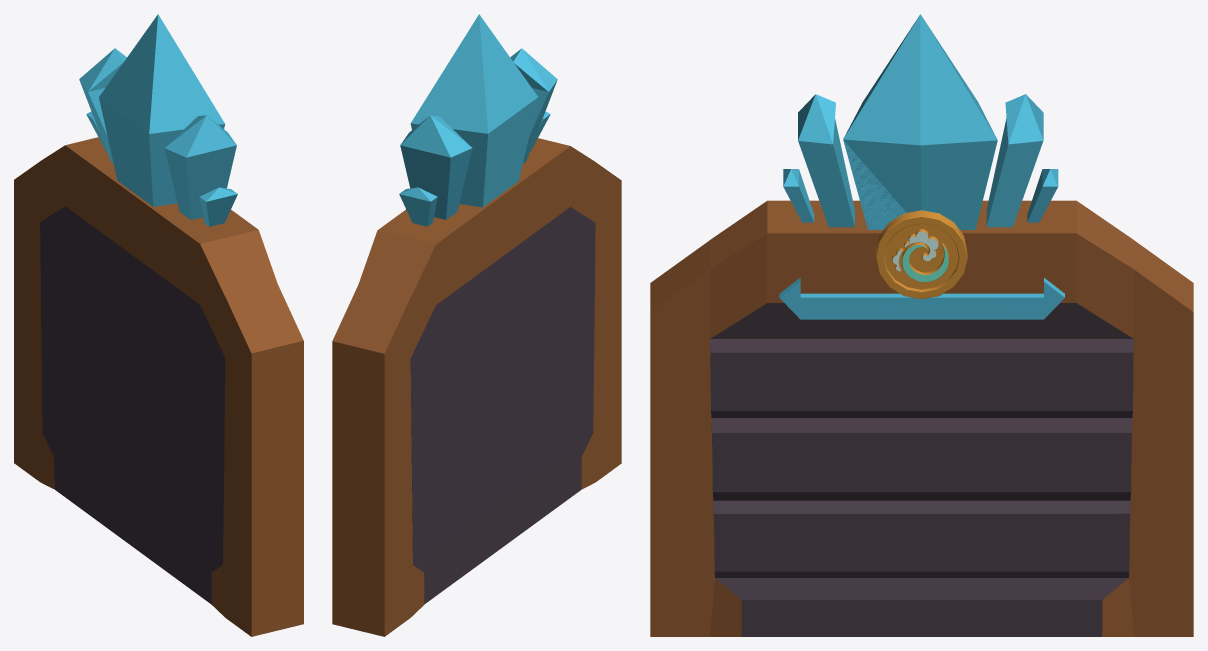
File: Gate(Pls).fbx
3 views of the same model, side by side, from view 1: azimuth 30°, elevation 25°; view 2: azimuth 150°, elevation 25°; view 3: azimuth 270°, elevation 25° (orthographic). The views are drawn at different scales.
Parts seen in each view (by area): view 1: Border, Door; view 2: Border, Door; view 3: Door, Border, Plane, Coin.
Boxes of the visible parts, x1,y1,x2,y2 form: Border: (14,14,303,636); Door: (40,206,225,604); Border: (332,14,621,636); Door: (410,207,595,604); Door: (710,303,1133,636); Border: (650,14,1193,636); Plane: (779,277,1064,319); Coin: (875,210,967,299).
Bounding box in the file's own units: 150 × 952 × 772.
